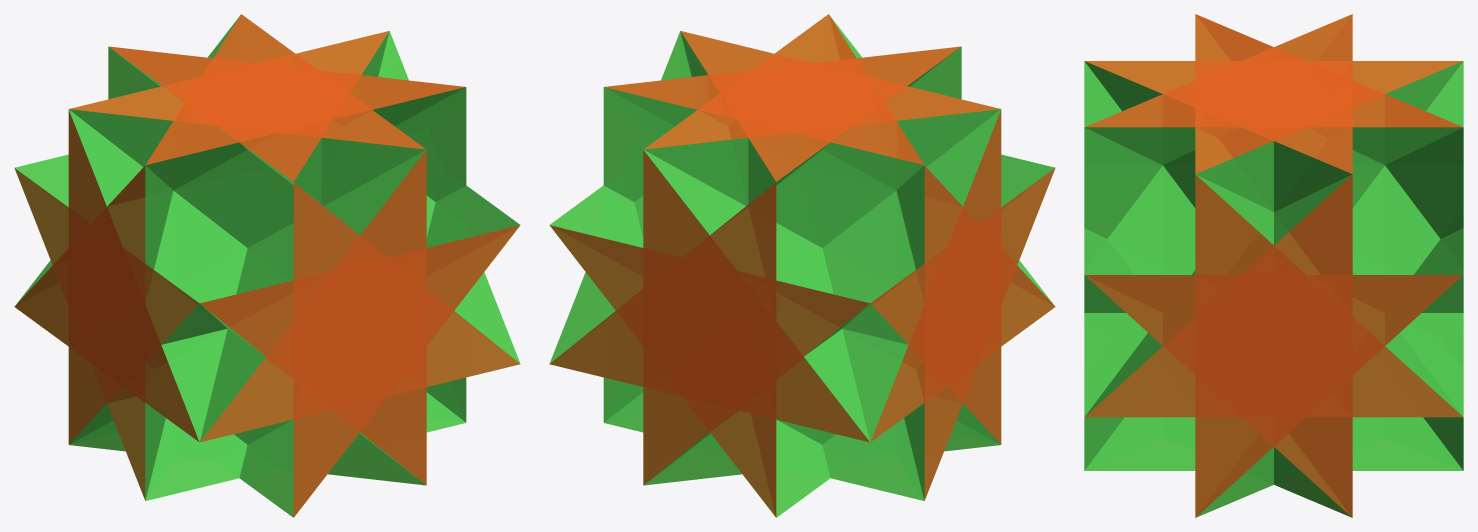
File: GreatRhombihexahedron.obj
3 renders of one model, left to right at view 1: azimuth 30°, elevation 25°; view 2: azimuth 150°, elevation 25°; view 3: azimuth 270°, elevation 25°, orthographic. The views are drawn at different scales.
Size of the model in its own units: 1 by 1 by 1.
